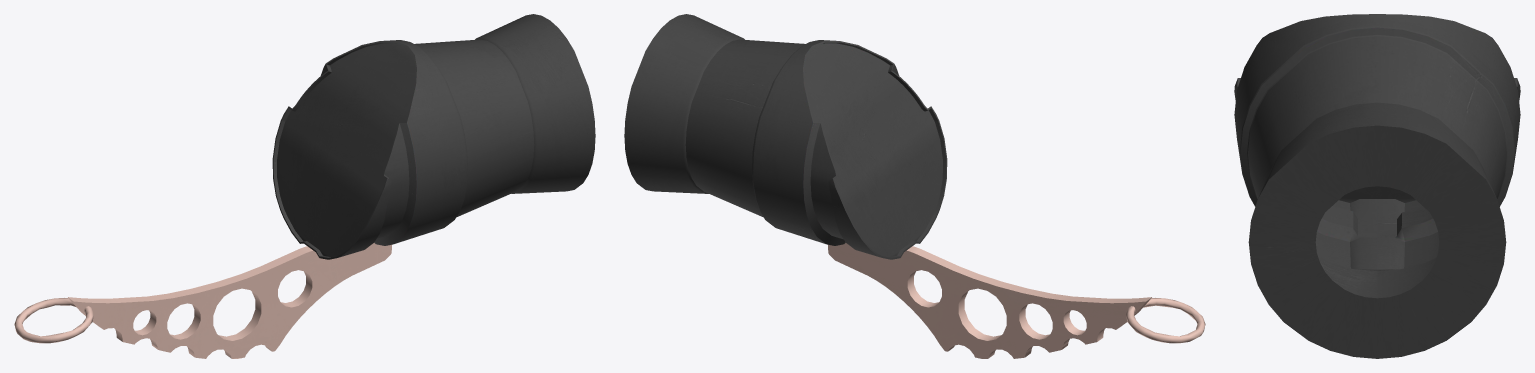
The model's file is pommel_17_r_c.glb.
3 views of the same model, side by side, from view 1: azimuth 30°, elevation 25°; view 2: azimuth 150°, elevation 25°; view 3: azimuth 270°, elevation 25° (orthographic). The views are drawn at different scales.
Parts seen in each view (by area): view 1: pommel_17_r_c_lod0; view 2: pommel_17_r_c_lod0; view 3: pommel_17_r_c_lod0.
Boxes of the visible parts, <box> form: pommel_17_r_c_lod0: <box>14,14,595,358</box>; pommel_17_r_c_lod0: <box>624,14,1205,358</box>; pommel_17_r_c_lod0: <box>1234,14,1520,358</box>.
Size of what is drawn, in the model's own units: 0.0989 by 0.0481 by 0.0326.
Materials: 1 (1 with a texture image).
